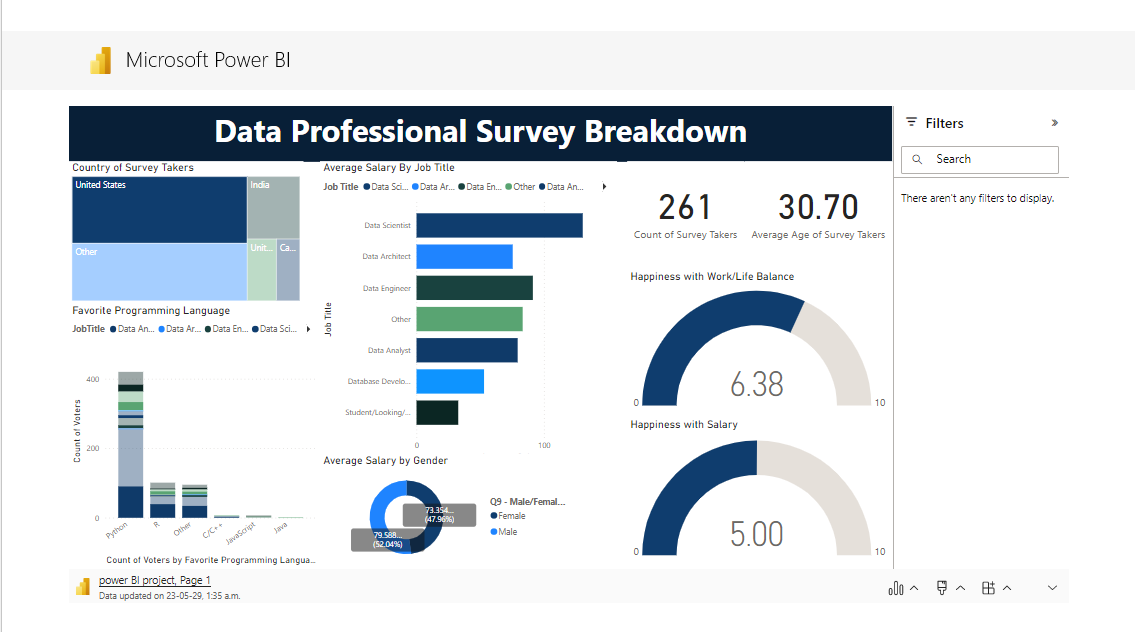

What the dashboard file says about the page in this screenshot:
{"tool":"powerbi","page":{"name":"Page 1","canvas":[1280,720],"ordinal":0},"visuals":[{"type":"textbox","box":[0,0,1280,86.7],"z":1},{"type":"card","fields":{"Values":["Count(Data Professional Survey.Unique ID)"]},"box":[868,86,182,150],"z":2},{"type":"card","fields":{"Values":["Avg(Data Professional Survey.Q10 - Current Age)"]},"box":[1050,86,230,150],"z":3},{"type":"barChart","title":"Average Salary By Job Title","fields":{"Category":["Data Professional Survey.Q1 - Which Title Best Fits your Current Role?.1"],"Y":["Avg(Data Professional Survey.Average Salary)"],"Series":["Data Professional Survey.Q1 - Which Title Best Fits your Current Role?.1"]},"box":[390,86,462,474],"z":4},{"type":"columnChart","title":"Favorite Programming Language","fields":{"Category":["Data Professional Survey.Q5 - Favorite Programming Language.1"],"Y":["CountNonNull(Data Professional Survey.Unique ID)"],"Series":["Data Professional Survey.Q1 - Which Title Best Fits your Current Role?.1"]},"box":[0,308,390,412],"z":5},{"type":"treemap","title":"Country of Survey Takers","fields":{"Group":["Data Professional Survey.Q11 - Which Country do you live in?.1"],"Values":["CountNonNull(Data Professional Survey.Q11 - Which Country do you live in?.1)"]},"box":[0,86,364,222],"z":6},{"type":"gauge","title":"Happiness with Work/Life Balance","fields":{"Y":["Avg(Data Professional Survey.Q6 - How Happy are you in your Current Position with the following? (Work/Life Balance))"],"MinValue":["Min(Data Professional Survey.Q6 - How Happy are you in your Current Position with the following? (Work/Life Balance))1"],"MaxValue":["Max(Data Professional Survey.Q6 - How Happy are you in your Current Position with the following? (Work/Life Balance))2"]},"box":[868,254,412,230],"z":7},{"type":"gauge","title":"Happiness with Salary","fields":{"Y":["Avg(Data Professional Survey.Q6 - How Happy are you in your Current Position with the following? (Salary))"],"MinValue":["Min(Data Professional Survey.Q6 - How Happy are you in your Current Position with the following? (Salary))"],"MaxValue":["Max(Data Professional Survey.Q6 - How Happy are you in your Current Position with the following? (Salary))"]},"box":[868,484,412,236],"z":8},{"type":"donutChart","title":"Average Salary by Gender","fields":{"Category":["Data Professional Survey.Q9 - Male/Female?"],"Y":["Avg(Data Professional Survey.Average Salary)"]},"box":[390,540,390,180],"z":9}]}

Visuals, with their boxes on the page's 1280x720 design canvas (x1, y1, x2, y2). These are canvas units, not pixel positions in the 1135x632 screenshot, which may show the page scaled, cropped or inside an application window:
textbox: [0,0,1280,87]
card - Count(Data Professional Survey.Unique ID): [868,86,1050,236]
card - Avg(Data Professional Survey.Q10 - Current Age): [1050,86,1280,236]
"Average Salary By Job Title" barChart: [390,86,852,560]
"Favorite Programming Language" columnChart: [0,308,390,720]
"Country of Survey Takers" treemap: [0,86,364,308]
"Happiness with Work/Life Balance" gauge: [868,254,1280,484]
"Happiness with Salary" gauge: [868,484,1280,720]
"Average Salary by Gender" donutChart: [390,540,780,720]
